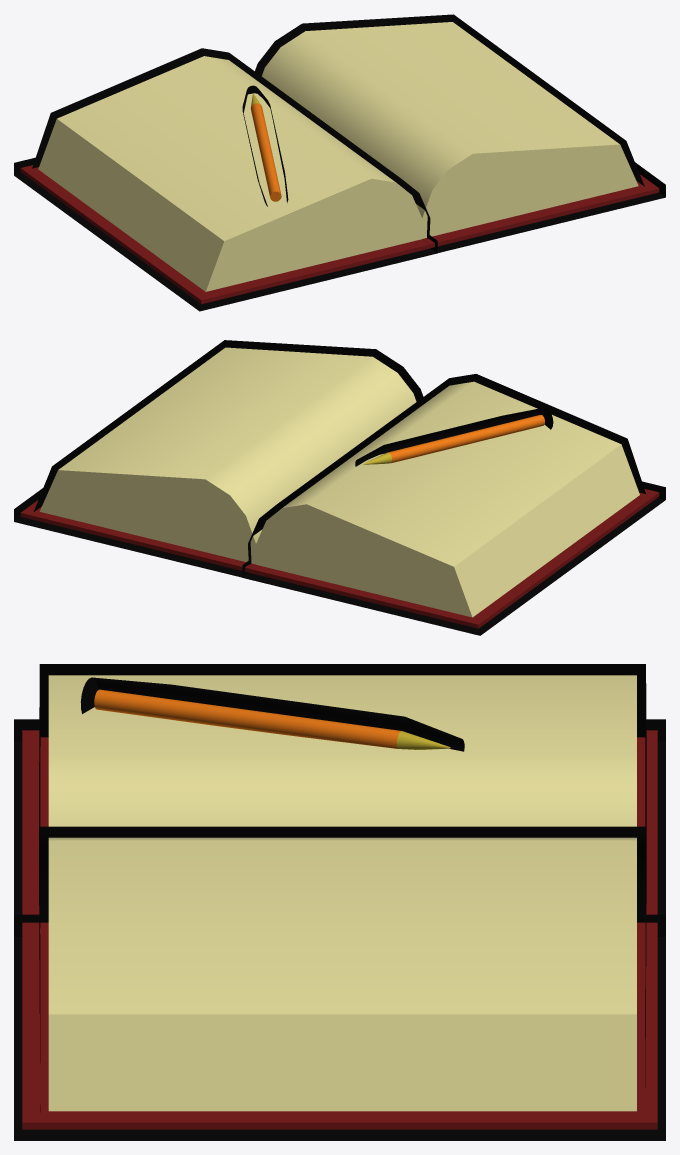
The model's file is Notebook.FBX.
The picture shows the model from 3 angles, top to bottom: view 1: azimuth 30°, elevation 25°; view 2: azimuth 150°, elevation 25°; view 3: azimuth 270°, elevation 25°; orthographic projection. The views are drawn at different scales.
Visible parts, largest first — view 1: Notebook, NotebookOutline; view 2: Notebook, NotebookOutline; view 3: Notebook, NotebookOutline.
Part boxes in pixels (<box>): Notebook: <box>20,22,659,304</box>; NotebookOutline: <box>14,14,665,311</box>; Notebook: <box>20,347,659,628</box>; NotebookOutline: <box>14,340,665,635</box>; Notebook: <box>22,675,657,1129</box>; NotebookOutline: <box>14,664,665,1140</box>.
Size of the model in its own units: 0.643 by 0.1247 by 0.4434.
